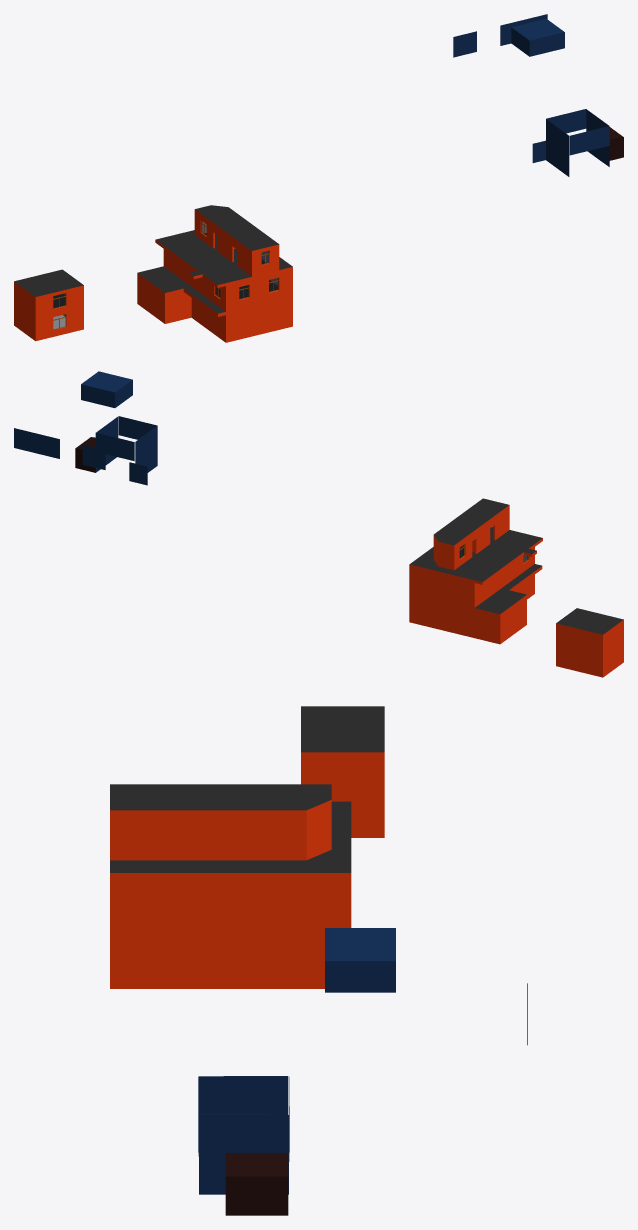
The picture shows the model from 3 angles, top to bottom: view 1: azimuth 30°, elevation 25°; view 2: azimuth 150°, elevation 25°; view 3: azimuth 270°, elevation 25°; orthographic projection. The views are drawn at different scales.
Visible parts, largest first — view 1: Box475; view 2: Box475; view 3: Box475.
Part boxes in pixels (x1=…): Box475: x1=14, y1=14, x2=623, y2=342; Box475: x1=14, y1=371, x2=623, y2=677; Box475: x1=110, y1=706, x2=527, y2=1215.
Size of the model in its own units: 8111 by 2364 by 2655.
